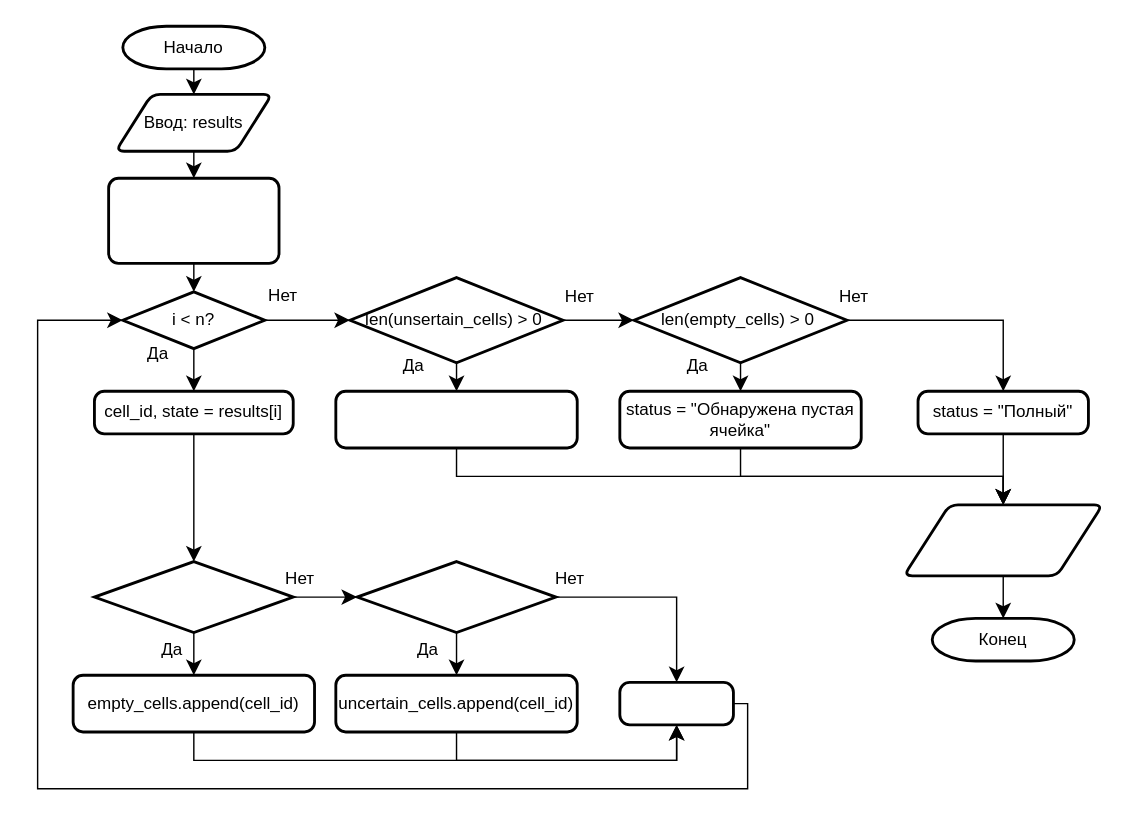
This 1129x828 diagram has some shape labels left out. Each missing label, with the centre of its shape:
empty_cells = [] и uncertain_cells = [] и n = len(results) i = 0: (193,220)
i = i + 1: (676,703)
state == "empty"?: (193,596)
state == "uncertain"?: (456,596)
status = "Требуется повторная проверка": (456,419)
Вывод: status, empty_cells, uncertain_cells: (1002,540)
